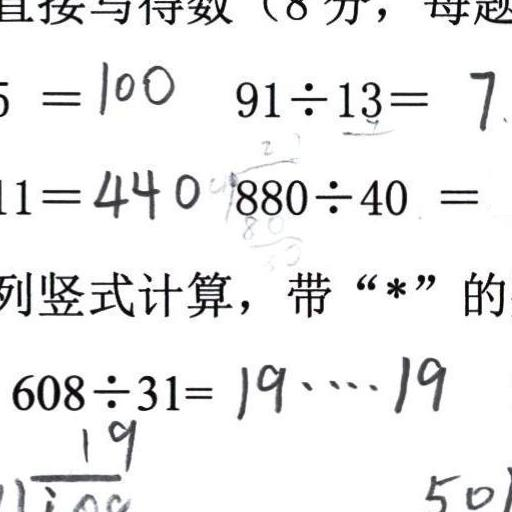ans: (231, 350, 448, 420), (90, 161, 199, 220), (92, 54, 174, 114), (463, 62, 499, 130)
